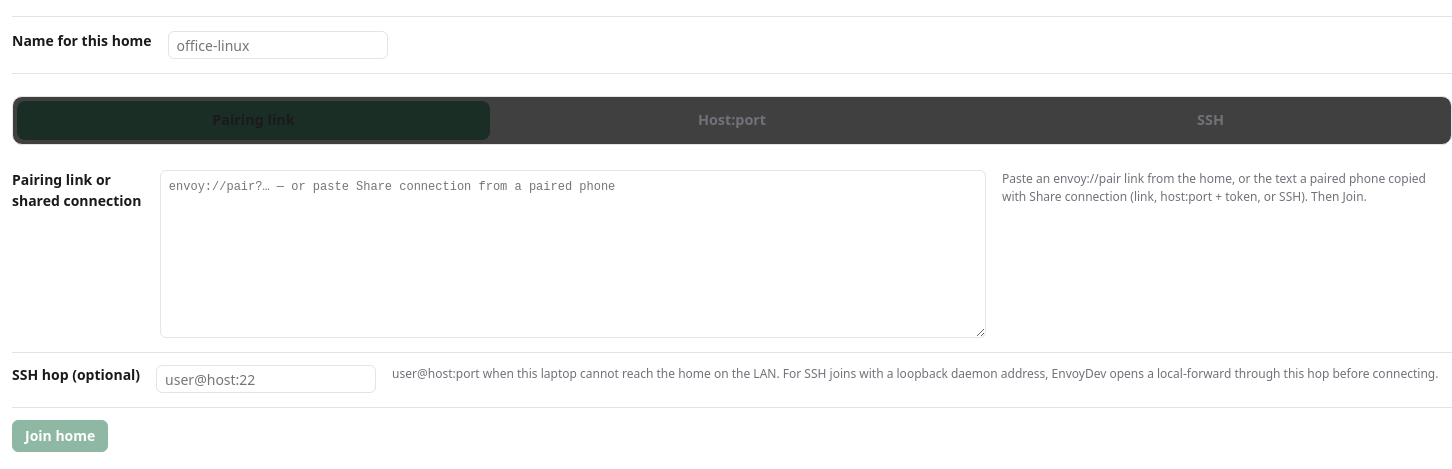
Scenario: PairedHomesPanel › joins from host:port + token
The image size is (1452, 469).
Click the tab with test id "homes-method-direct" at (732, 121), box top-left (496, 101), bottom-right (968, 140)
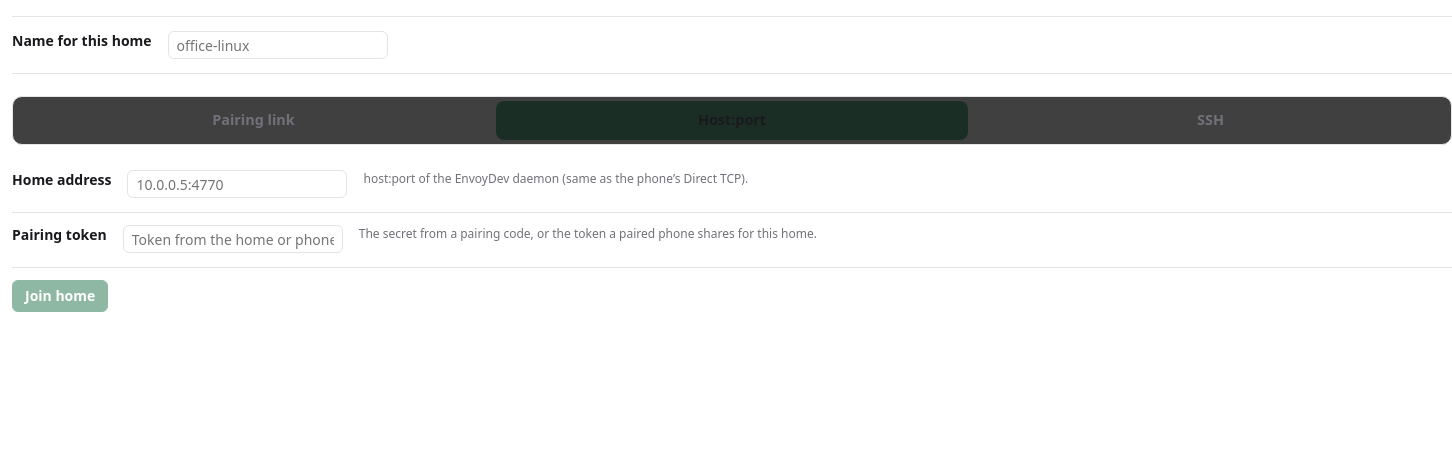
Type "10.0.0.8:4770" into the field labelled "Home address" at (238, 184), box top-left (128, 170), bottom-right (348, 198)
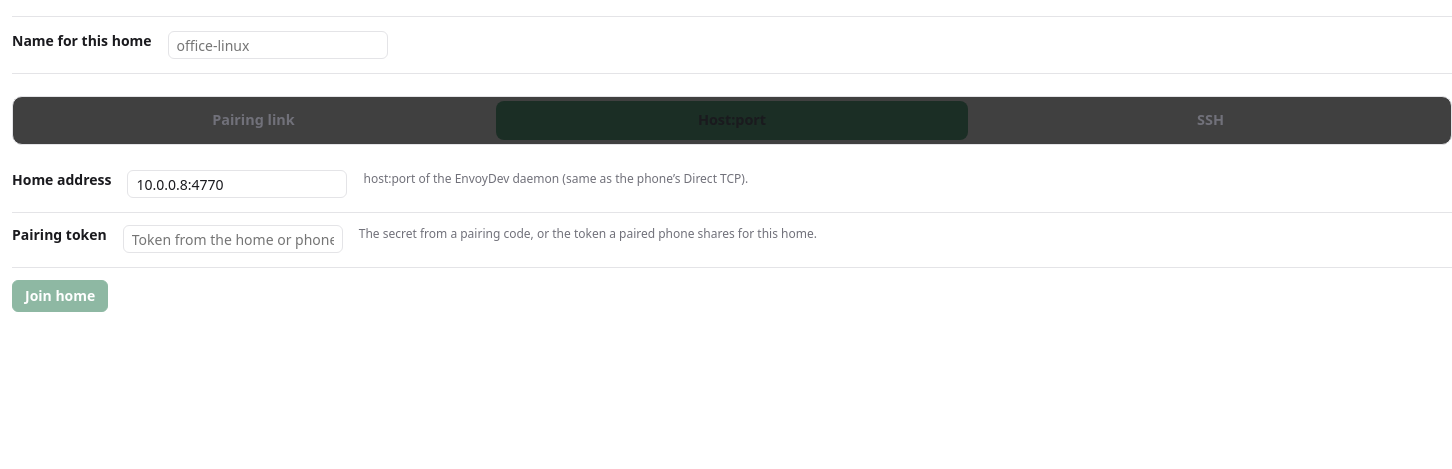
Type "MyPhone99" into the field labelled "Pairing token" at (233, 240), box top-left (123, 226), bottom-right (343, 254)
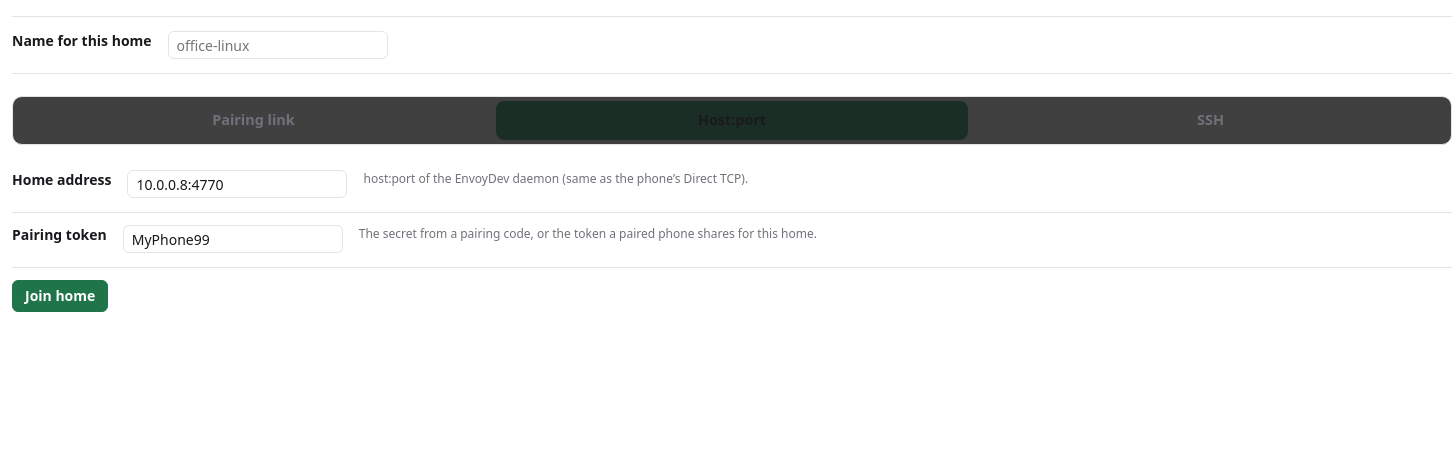
Type "direct-home" into the field labelled "Name for this home" at (278, 45), box top-left (168, 31), bottom-right (388, 59)
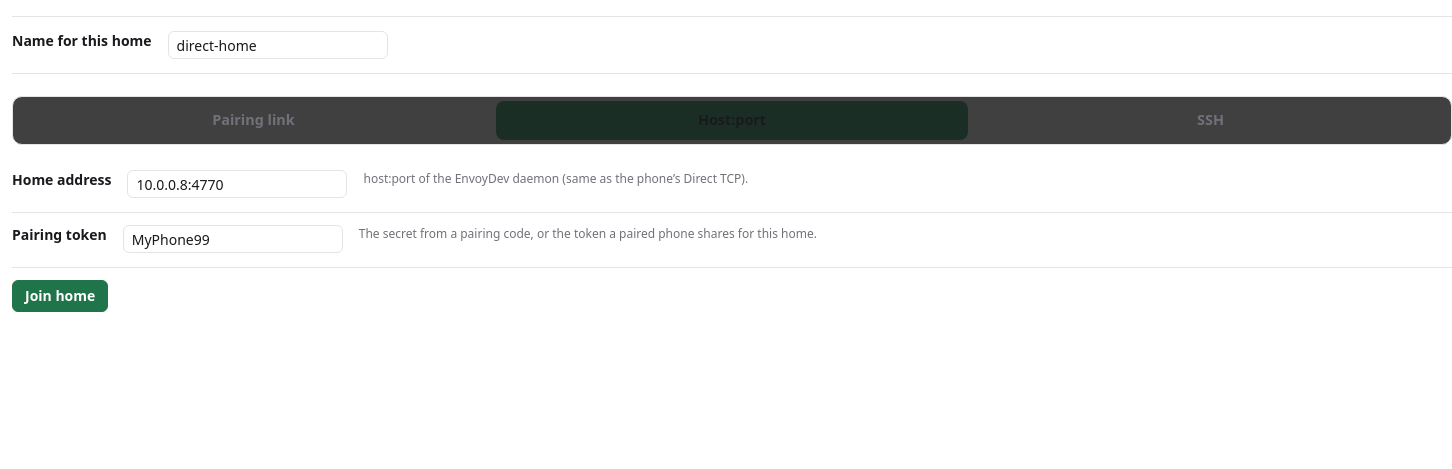
Click the button "Join home" at (60, 296), box top-left (12, 280), bottom-right (108, 312)
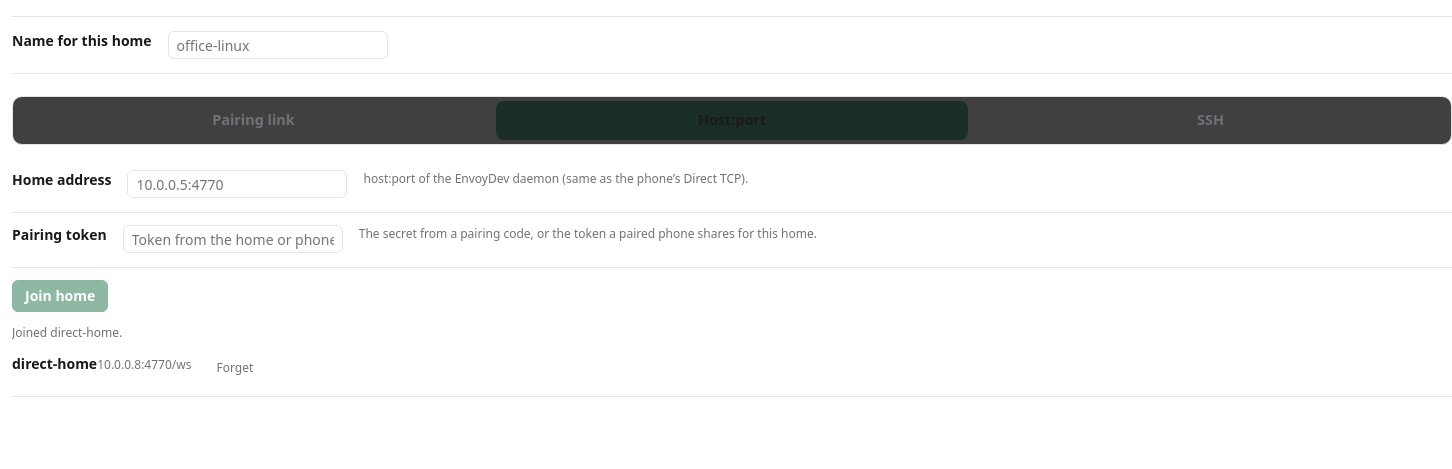
Expected: the text "direct-home" is shown, top-left (12, 354), bottom-right (97, 373)
